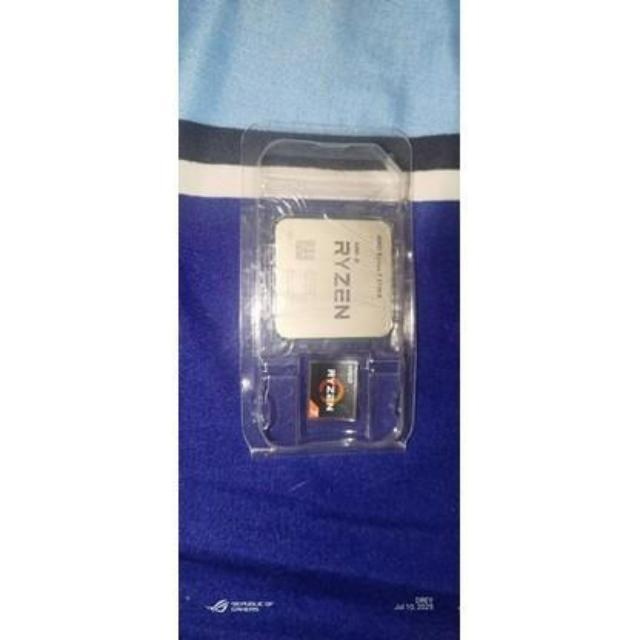CPU: (274, 216, 398, 344)
